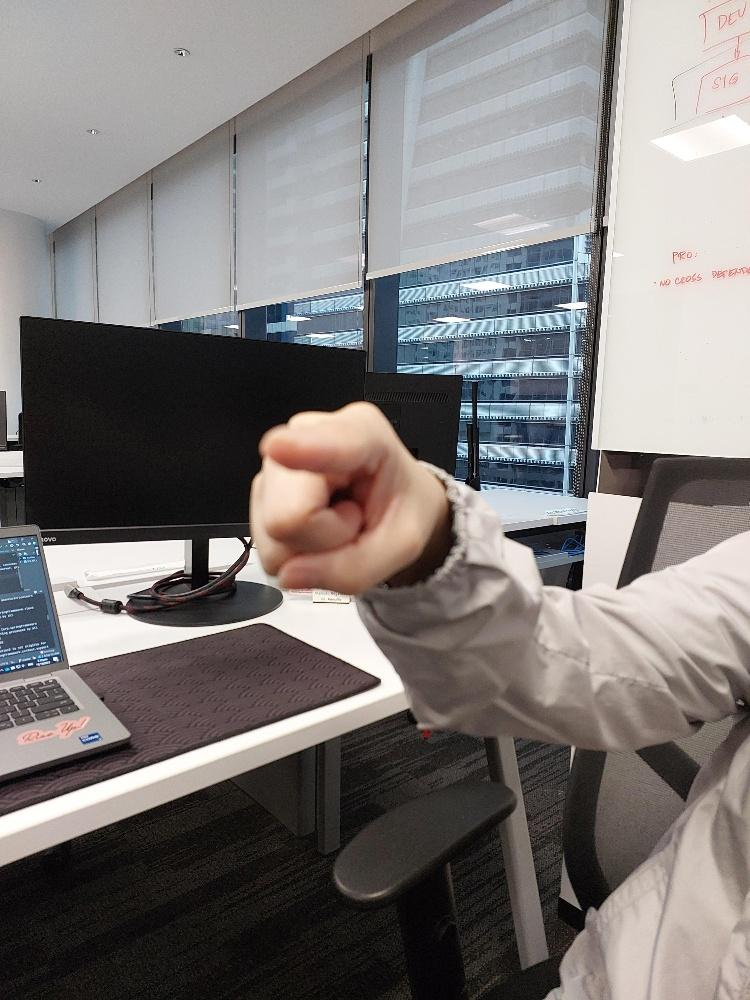z: (249, 401, 446, 594)
